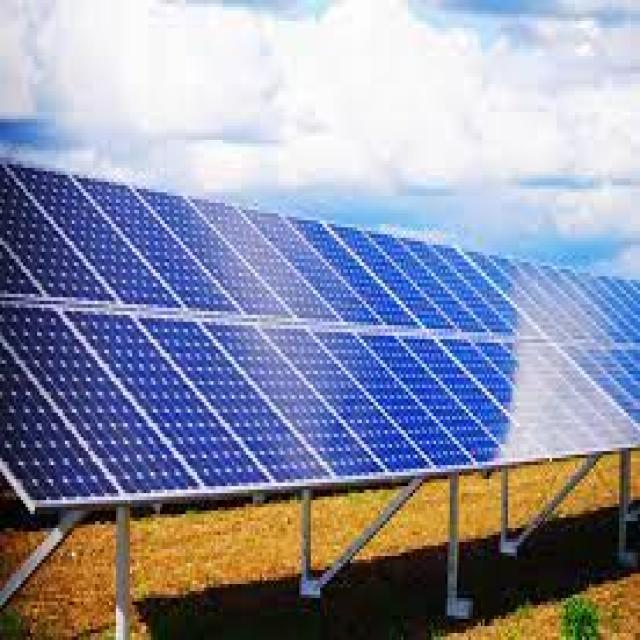clean-solar-panel: (0, 164, 640, 511)
